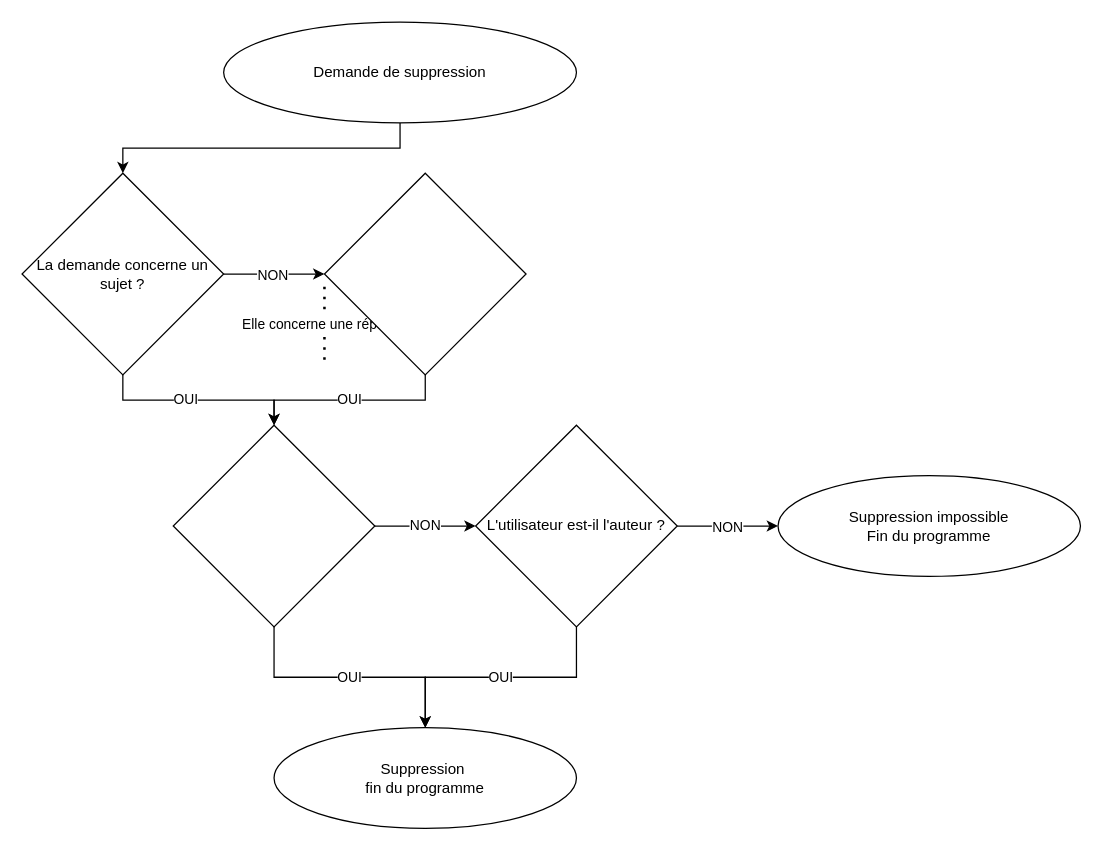
Image size: 1103x851. Some labels were removed from this diagram. Here are the shapes that lost their labels. From the top down, the centre of each, then its label:
At point (424, 273): "La demande concerne une réponse ?".
At point (273, 525): "L'utilsateur est-il modérateur ?".
